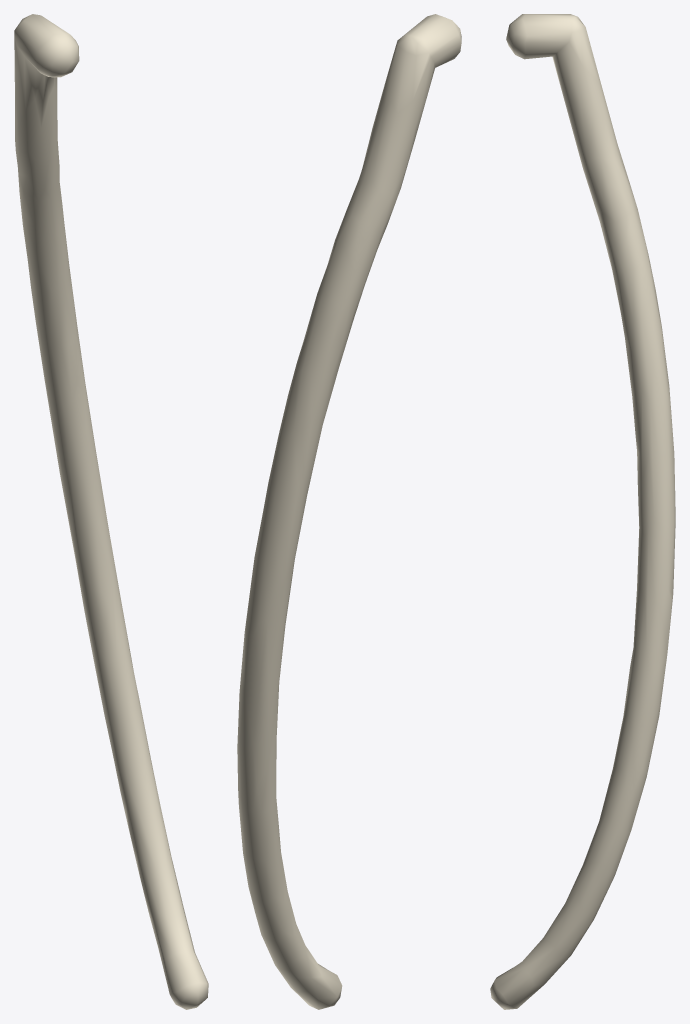
File: rib_2_r.glb
3 views of the same model, side by side, from view 1: azimuth 30°, elevation 25°; view 2: azimuth 150°, elevation 25°; view 3: azimuth 270°, elevation 25° (orthographic). The views are drawn at different scales.
Parts seen in each view (by area): view 1: geometry_0; view 2: geometry_0; view 3: geometry_0.
Part boxes in pixels (x1,y1,x2,y2): geometry_0: (14,14,208,1009); geometry_0: (237,14,461,1009); geometry_0: (490,14,675,1009).
Bounding box in the file's own units: 0.1886 × 1.09 × 0.1959.
